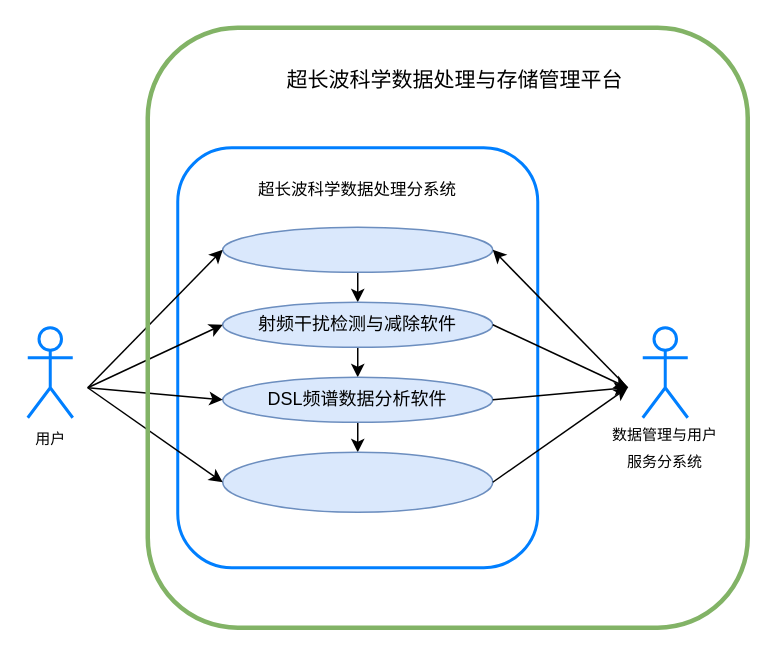
This 776x656 diagram has some shape labels left out. The shapes that lost their labels are listed below. From the top down, each one's centre as x and y in pixels, then its label:
At point (357, 249): "数据处理管线(Pipeline)".
At point (357, 481): "DSL低频阵列大视场干涉 成像软件".
